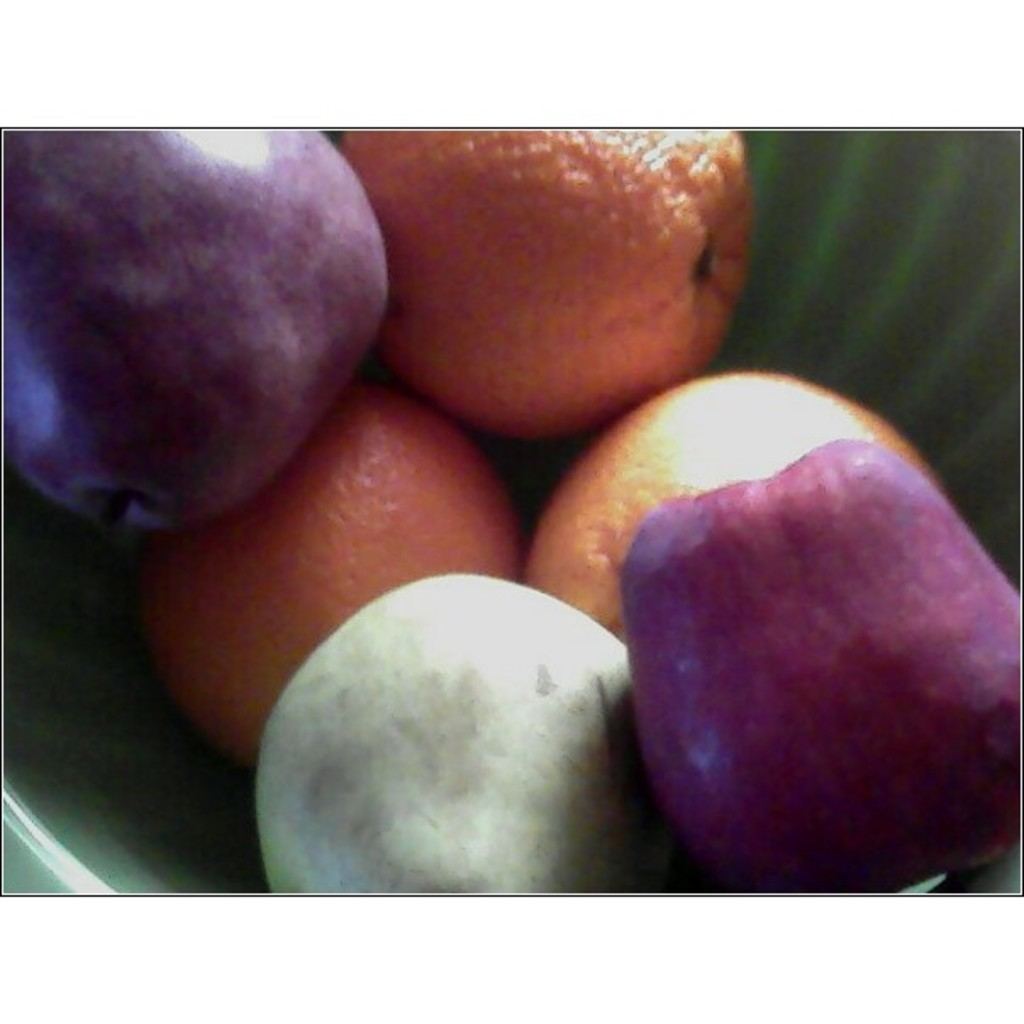Apple: (569, 386, 1013, 910), (0, 123, 391, 537)
